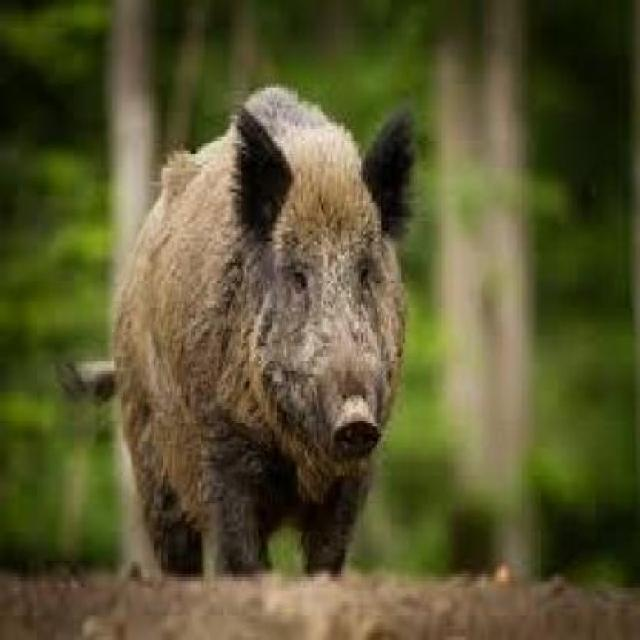wildboar: (55, 76, 420, 579)
